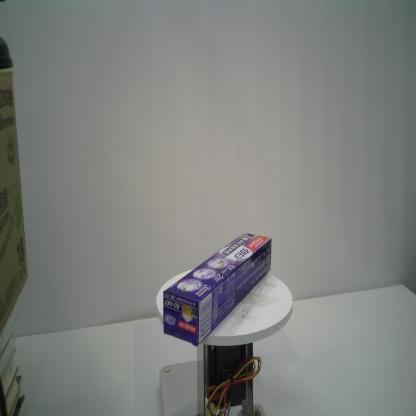Personal Hygiene: (161, 230, 273, 348)
